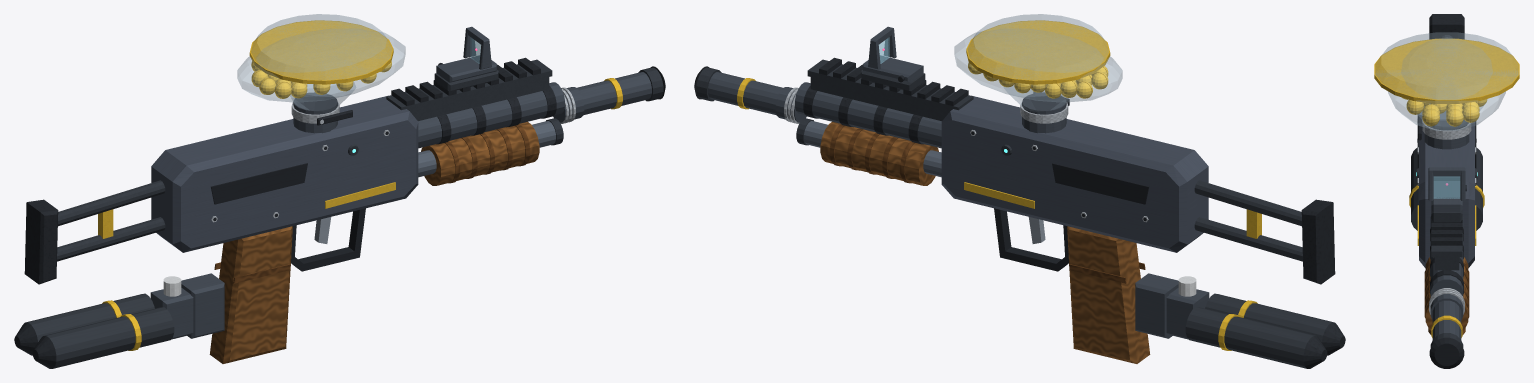
Rendered from shotgun_factory_v2.glb.
3 renders of one model, left to right at view 1: azimuth 30°, elevation 25°; view 2: azimuth 150°, elevation 25°; view 3: azimuth 270°, elevation 25°, orthographic. The views are drawn at different scales.
Visible parts, largest first — view 1: body, hopper_shell, tank, stock, barrel, sight_mesh; view 2: body, hopper_shell, tank, stock, barrel, sight_mesh; view 3: hopper_shell, body, barrel, sight_mesh, tank, stock, paintball_20, paintball_26, paintball_25, paintball_19.
Part boxes in pixels (x1,y1,x2,y2): body: [151, 57, 564, 363]; hopper_shell: [237, 14, 405, 111]; tank: [14, 276, 193, 368]; stock: [24, 180, 165, 284]; barrel: [553, 66, 665, 123]; sight_mesh: [434, 26, 498, 91]; body: [795, 57, 1208, 363]; hopper_shell: [954, 14, 1122, 111]; tank: [1166, 276, 1345, 368]; stock: [1194, 180, 1335, 284]; barrel: [694, 66, 806, 123]; sight_mesh: [861, 26, 925, 90]; hopper_shell: [1374, 32, 1519, 130]; body: [1416, 111, 1477, 334]; barrel: [1429, 288, 1464, 368]; sight_mesh: [1428, 167, 1466, 222]; tank: [1409, 147, 1484, 230]; stock: [1429, 14, 1464, 39]; paintball_20: [1422, 108, 1439, 126]; paintball_26: [1446, 109, 1463, 126]; paintball_25: [1462, 104, 1479, 122]; paintball_19: [1406, 99, 1423, 114].
Bounding box in the file's own units: 0.7205 × 0.318 × 0.1403.
21 materials, 15 textured.
